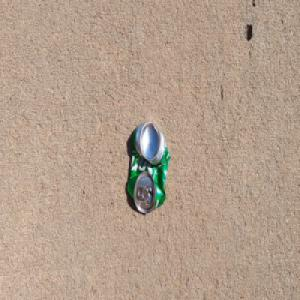SodaCan: (126, 120, 170, 216)
